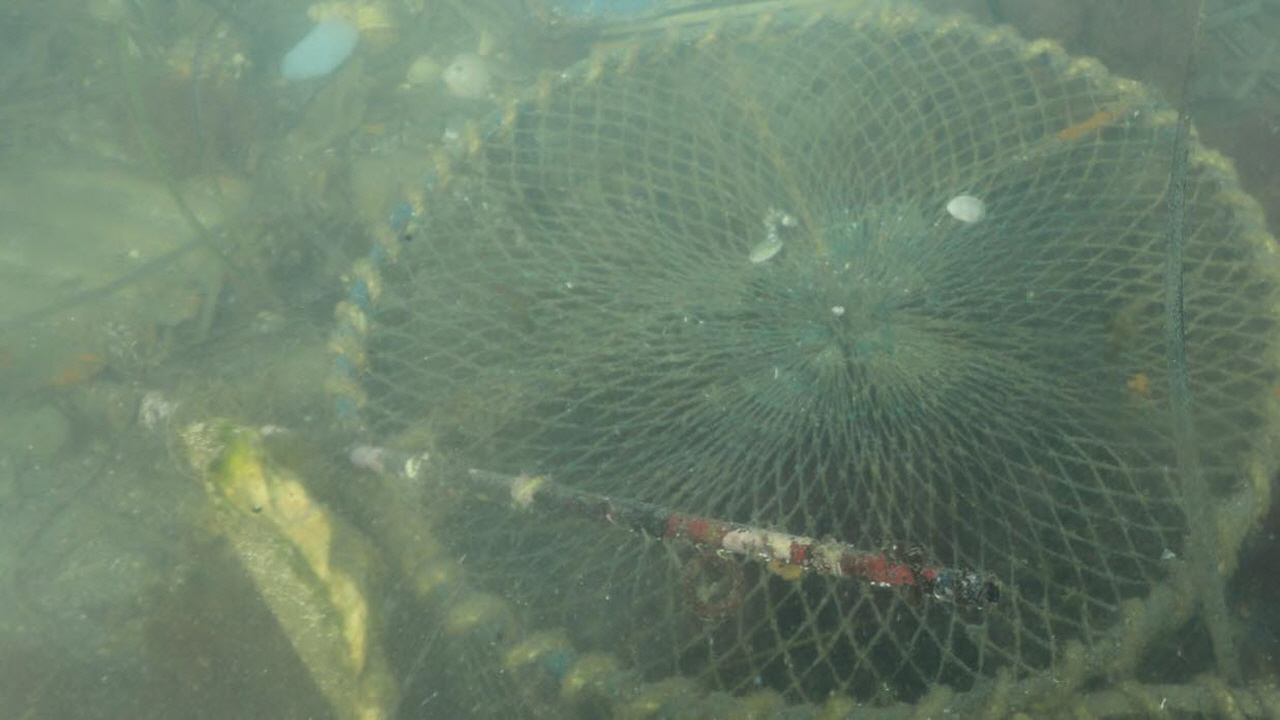circular fish trap: (324, 0, 1280, 720)
